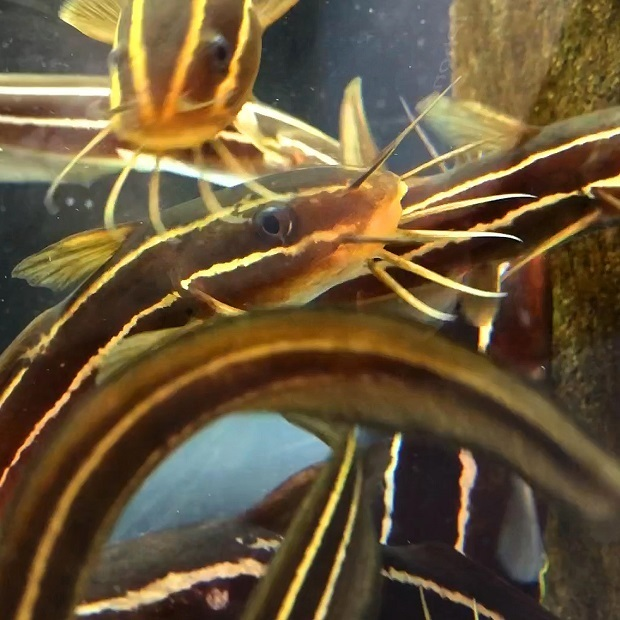gonzui: (1, 138, 485, 457)
